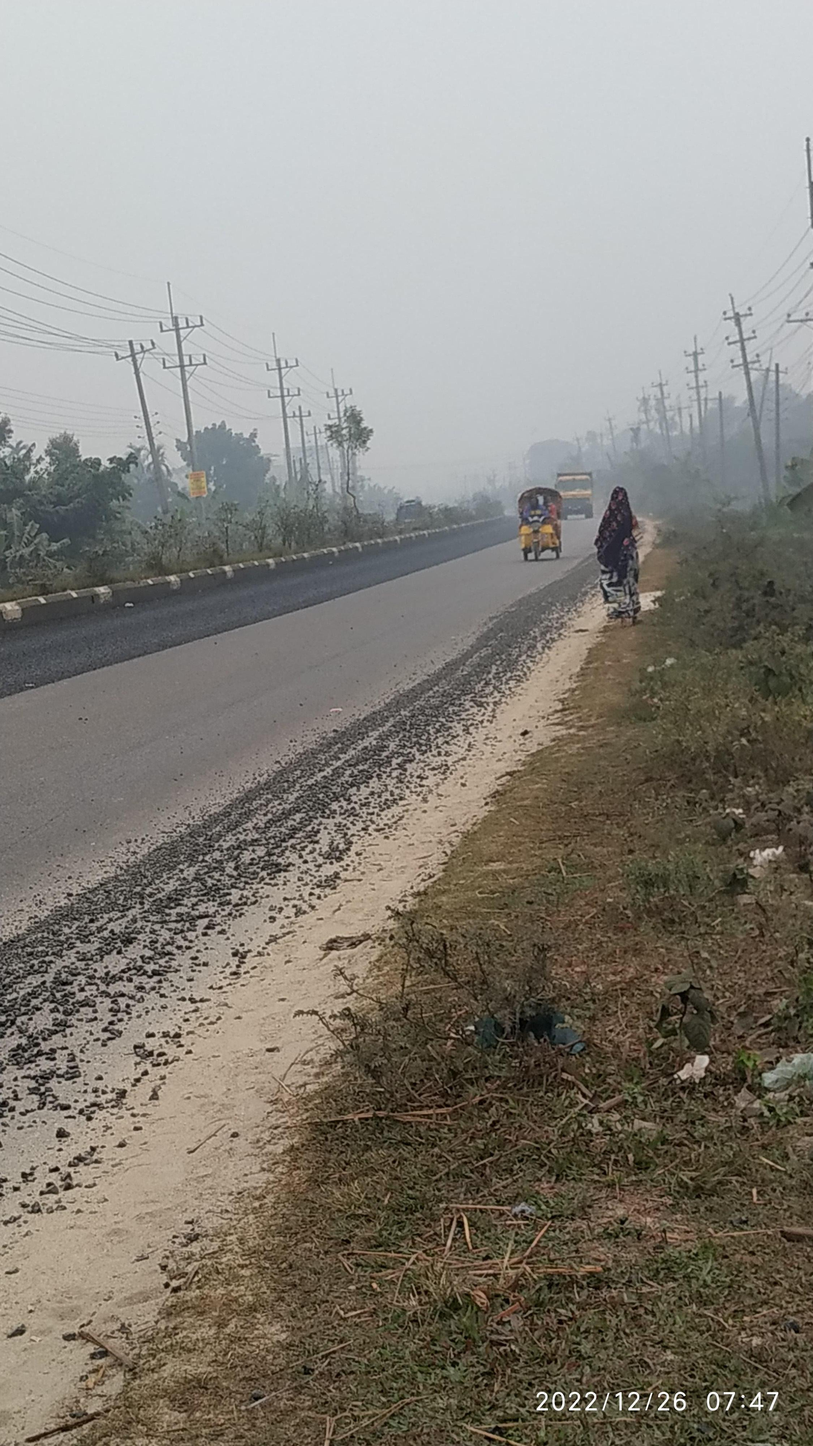Car: (503, 480, 576, 589)
Truck: (545, 455, 602, 533)
